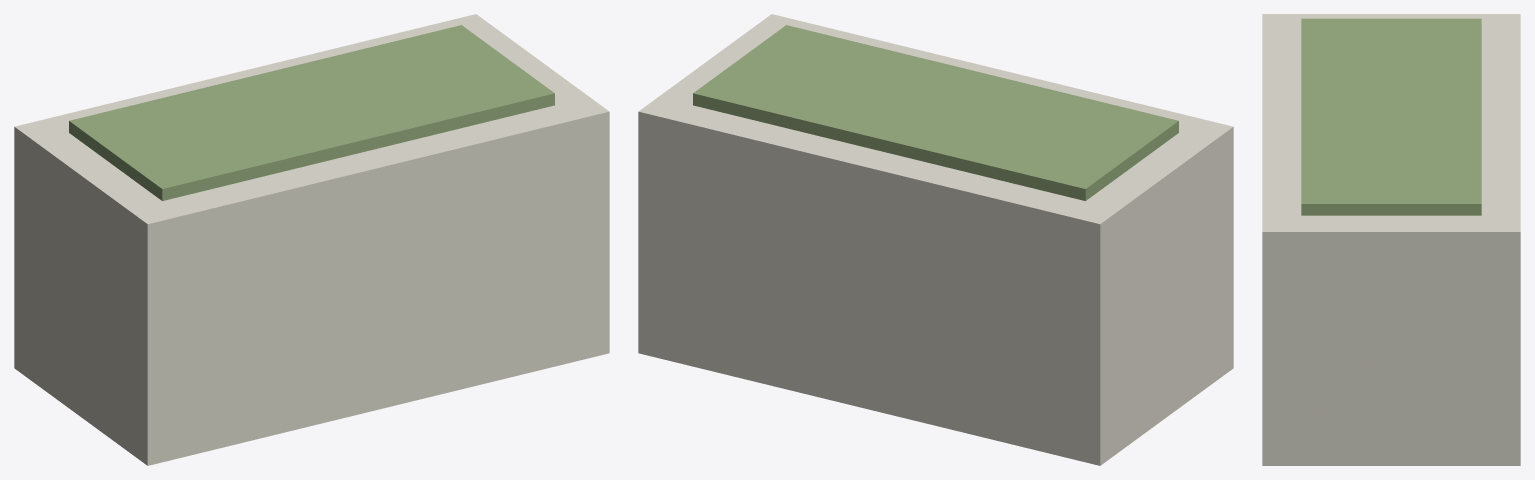
File: voxel-city-districts-raised-planter-5ebe7904.glb
The picture shows the model from 3 angles, left to right: view 1: azimuth 30°, elevation 25°; view 2: azimuth 150°, elevation 25°; view 3: azimuth 270°, elevation 25°; orthographic projection. The views are drawn at different scales.
Visible parts, largest first — view 1: raised-planter-concrete, raised-planter-green; view 2: raised-planter-concrete, raised-planter-green; view 3: raised-planter-concrete, raised-planter-green.
Boxes of the visible parts, box(x1,y1,x2,y2) form: raised-planter-concrete: box(14, 14, 609, 465); raised-planter-green: box(69, 25, 554, 200); raised-planter-concrete: box(638, 14, 1233, 465); raised-planter-green: box(693, 25, 1178, 200); raised-planter-concrete: box(1262, 14, 1520, 465); raised-planter-green: box(1301, 18, 1481, 215).
Size of the model in its own units: 2 by 1.05 by 1.
